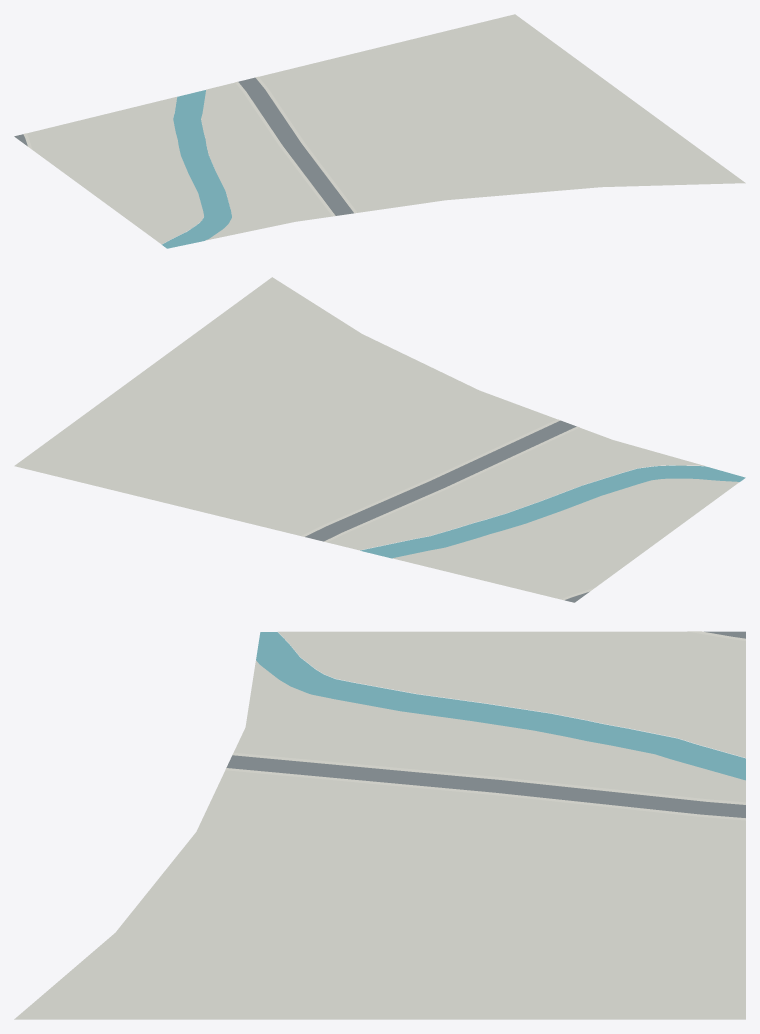
3 renders of one model, top to bottom at view 1: azimuth 30°, elevation 25°; view 2: azimuth 150°, elevation 25°; view 3: azimuth 270°, elevation 25°, orthographic. The views are drawn at different scales.
Visible parts, largest first — view 1: city; view 2: city; view 3: city.
Boxes of the visible parts, x1,y1,x2,y2 form: city: (14,14,745,248); city: (14,277,745,602); city: (14,631,745,1019).
Size of the model in its own units: 500 by 0.4 by 399.
